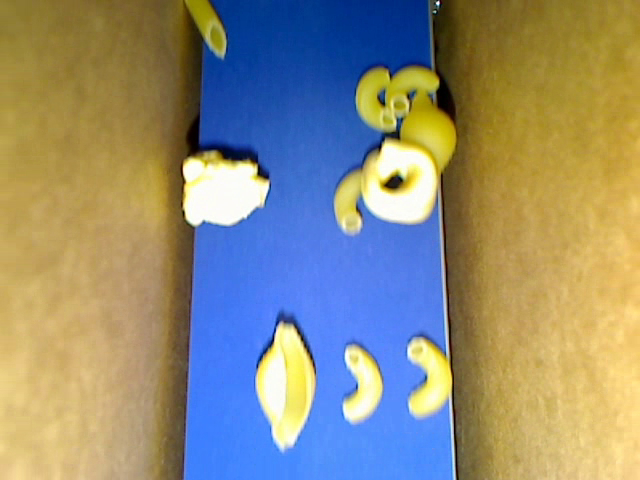elbow: (407, 335, 452, 420), (341, 343, 383, 423), (385, 67, 440, 118), (355, 67, 396, 131), (333, 170, 363, 236)
penne: (184, 1, 227, 60)
shell: (255, 320, 316, 453), (400, 90, 455, 175)
tortellini: (359, 138, 438, 225)
